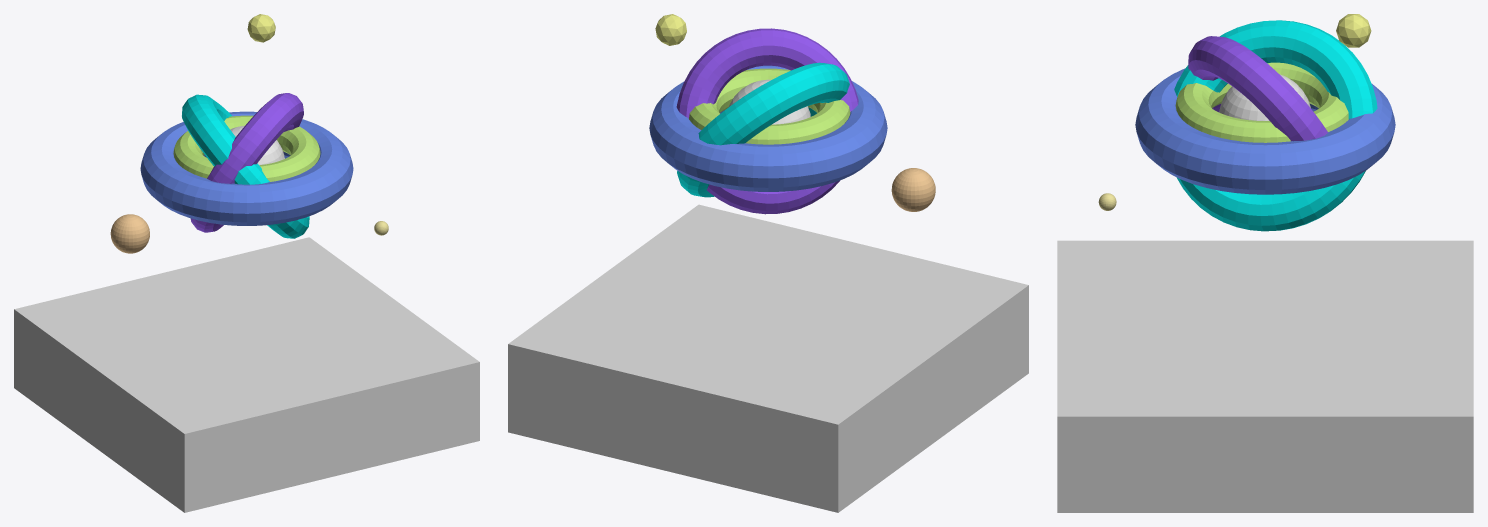
3 renders of one model, left to right at view 1: azimuth 30°, elevation 25°; view 2: azimuth 150°, elevation 25°; view 3: azimuth 270°, elevation 25°, orthographic. The views are drawn at different scales.
Visible parts, largest first — view 1: Cube, Torus.001, Torus.004, Torus, Torus.003, Sphere, Icosphere; view 2: Cube, Torus.001, Torus.004, Torus, Torus.003, Sphere, Icosphere, Sphere.002; view 3: Cube, Torus.001, Torus, Torus.004, Torus.003, Sphere.002, Icosphere.
Part boxes in pixels (bbox=[...]): Cube: bbox=[14, 237, 479, 512]; Torus.001: bbox=[140, 111, 353, 225]; Torus.004: bbox=[190, 93, 303, 232]; Torus: bbox=[182, 94, 309, 238]; Torus.003: bbox=[173, 115, 320, 181]; Sphere: bbox=[110, 214, 149, 253]; Icosphere: bbox=[247, 14, 275, 42]; Cube: bbox=[508, 204, 1028, 512]; Torus.001: bbox=[649, 65, 887, 191]; Torus.004: bbox=[676, 28, 858, 214]; Torus: bbox=[677, 62, 849, 197]; Torus.003: bbox=[689, 68, 850, 144]; Sphere: bbox=[891, 168, 935, 211]; Icosphere: bbox=[655, 14, 686, 45]; Sphere.002: bbox=[729, 79, 810, 124]; Cube: bbox=[1057, 240, 1473, 512]; Torus.001: bbox=[1135, 68, 1395, 194]; Torus: bbox=[1174, 20, 1377, 231]; Torus.004: bbox=[1188, 36, 1327, 141]; Torus.003: bbox=[1175, 62, 1348, 142]; Sphere.002: bbox=[1219, 74, 1310, 120]; Icosphere: bbox=[1336, 14, 1371, 47].
Size of the model in its own units: 2 by 2.33 by 2.
